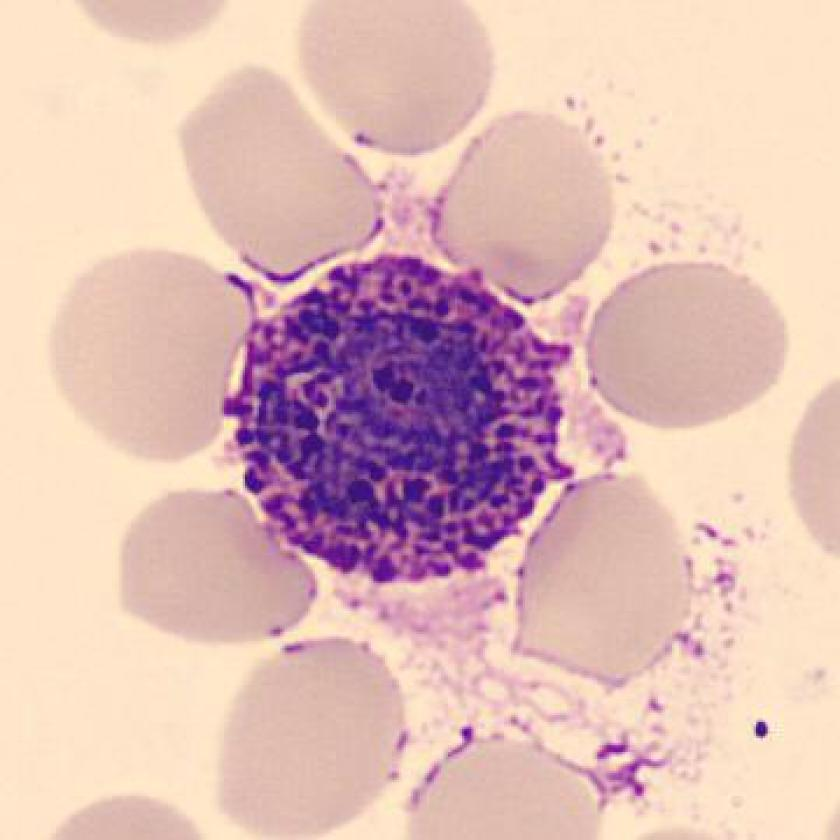basophil: (223, 242, 591, 593)
